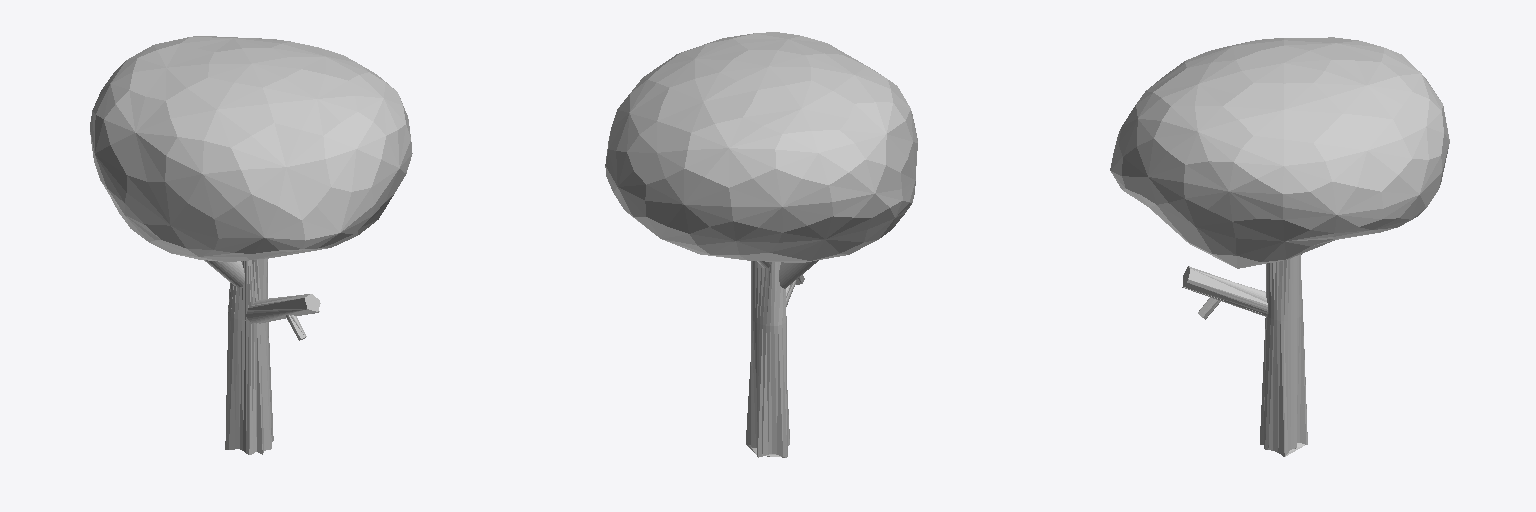
File: Tree_1.obj
The picture shows the model from 3 angles: view 1: azimuth 30°, elevation 25°; view 2: azimuth 150°, elevation 25°; view 3: azimuth 270°, elevation 25°; orthographic projection.
Visible parts, largest first — view 1: Leaves, Trunk, Branch_3, Branch_1; view 2: Leaves, Trunk, Branch_1; view 3: Leaves, Trunk, Branch_3.
Part boxes in pixels (x1,y1,x2,y2): Leaves: (90, 36, 412, 261); Trunk: (225, 259, 273, 454); Branch_3: (246, 294, 320, 323); Branch_1: (204, 260, 244, 287); Leaves: (605, 32, 917, 262); Trunk: (746, 261, 789, 457); Branch_1: (779, 260, 818, 288); Leaves: (1110, 37, 1449, 268); Trunk: (1260, 254, 1307, 456); Branch_3: (1182, 266, 1267, 316).
Size of the model in its own units: 17.55 by 23.73 by 19.08.